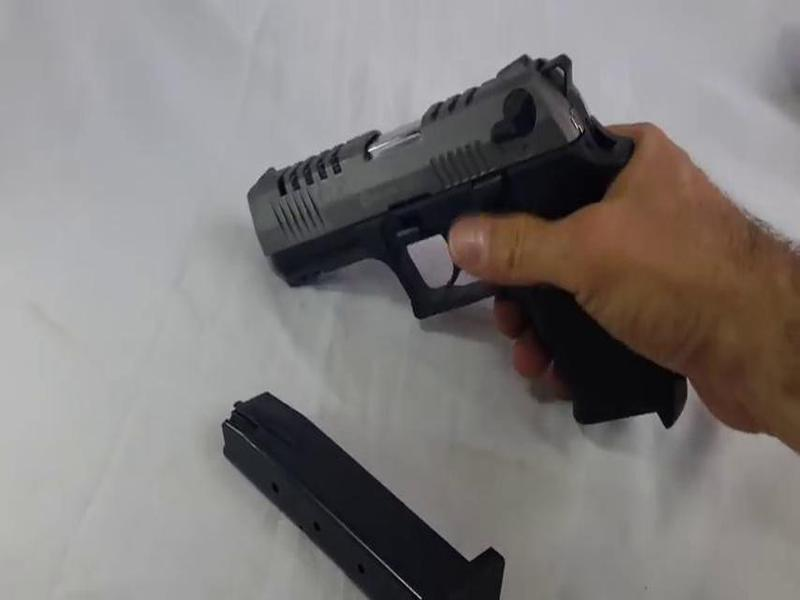Pistola: (238, 38, 705, 433)
